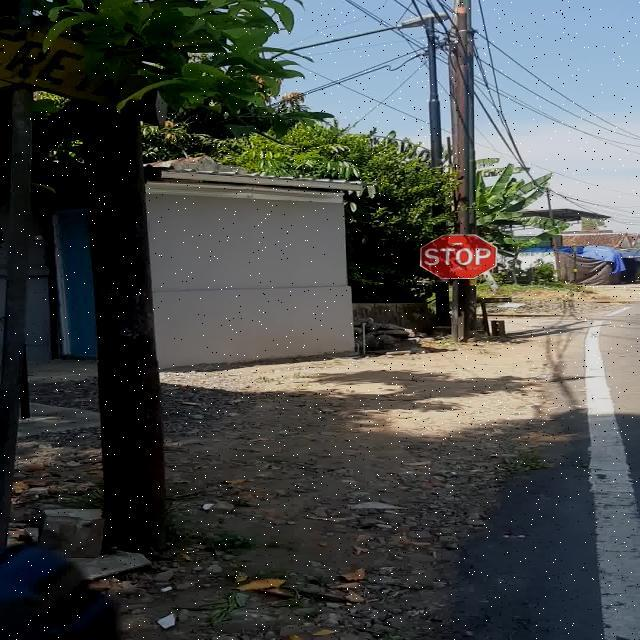Berhenti: (420, 234, 498, 280)
